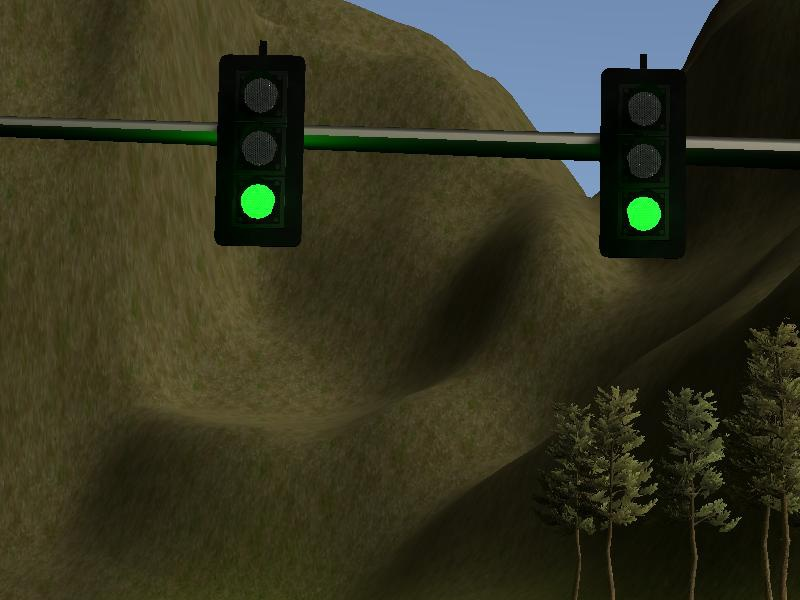Green: (598, 66, 691, 259), (214, 53, 307, 246)
